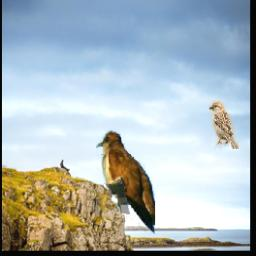Cuckoo: (97, 130, 156, 234)
Sparrow: (209, 102, 240, 150)
